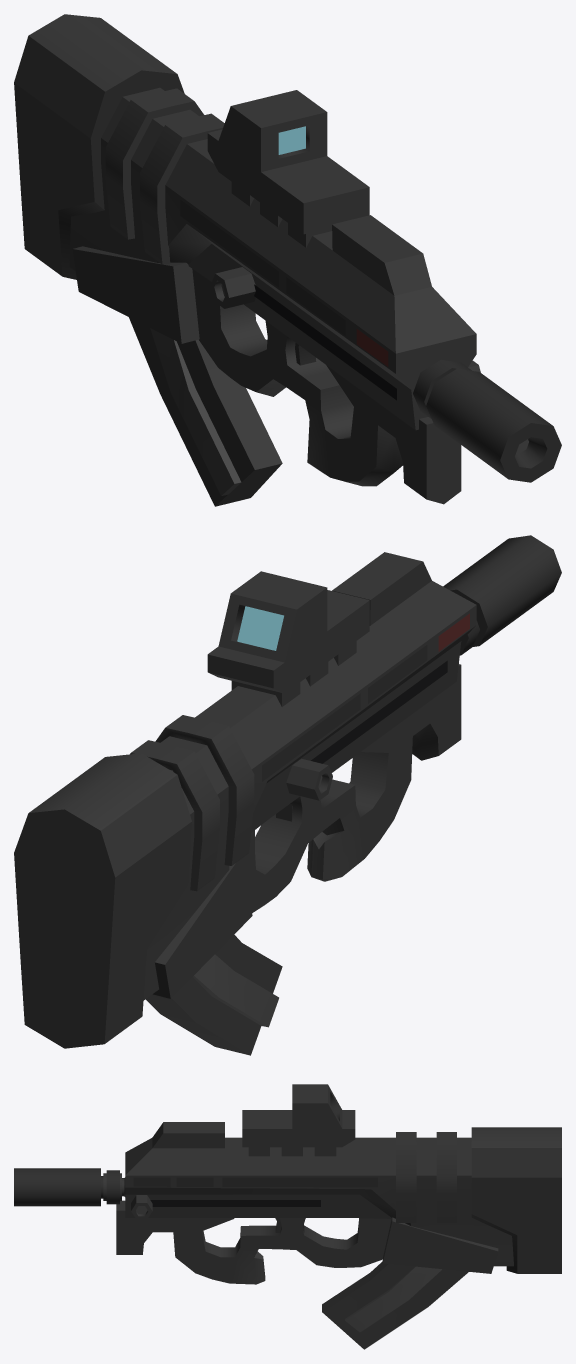
3 views of the same model, one above another, from view 1: azimuth 30°, elevation 25°; view 2: azimuth 150°, elevation 25°; view 3: azimuth 270°, elevation 25° (orthographic). The views are drawn at different scales.
Visible parts, largest first — view 1: C20-R, C20-R.Magazine, C20-R.Silencer; view 2: C20-R, C20-R.Magazine, C20-R.Silencer; view 3: C20-R, C20-R.Magazine, C20-R.Silencer.
Boxes of the visible parts, bbox=[...] form: C20-R: bbox=[14, 14, 480, 504]; C20-R.Magazine: bbox=[129, 317, 282, 506]; C20-R.Silencer: bbox=[413, 359, 561, 482]; C20-R: bbox=[14, 552, 476, 1048]; C20-R.Magazine: bbox=[145, 934, 282, 1055]; C20-R.Silencer: bbox=[443, 535, 561, 655]; C20-R: bbox=[103, 1084, 561, 1284]; C20-R.Magazine: bbox=[322, 1261, 468, 1349]; C20-R.Silencer: bbox=[14, 1168, 119, 1206].
Size of the model in its own units: 0.1127 by 0.4421 by 0.8751.
